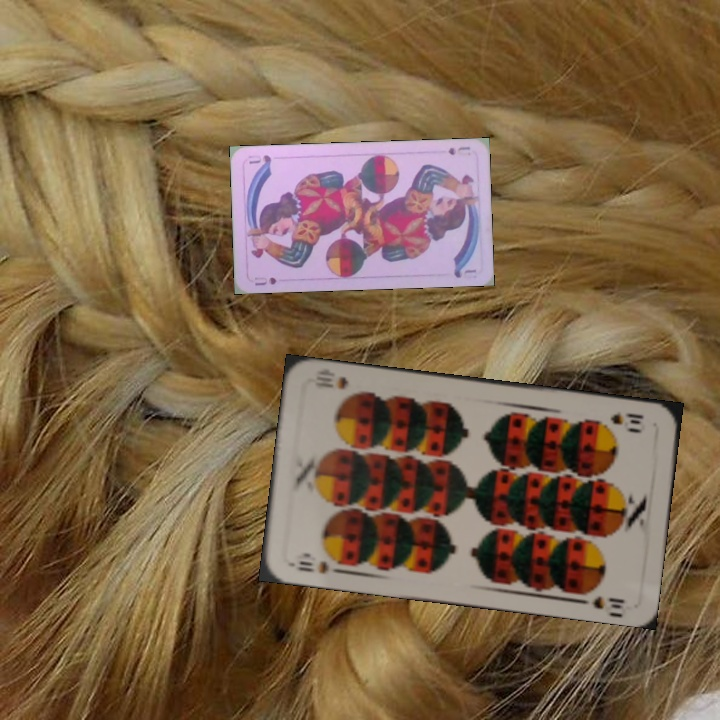S10: (294, 556, 344, 576), (606, 409, 646, 432)
SU: (444, 142, 473, 157), (250, 273, 279, 288)
